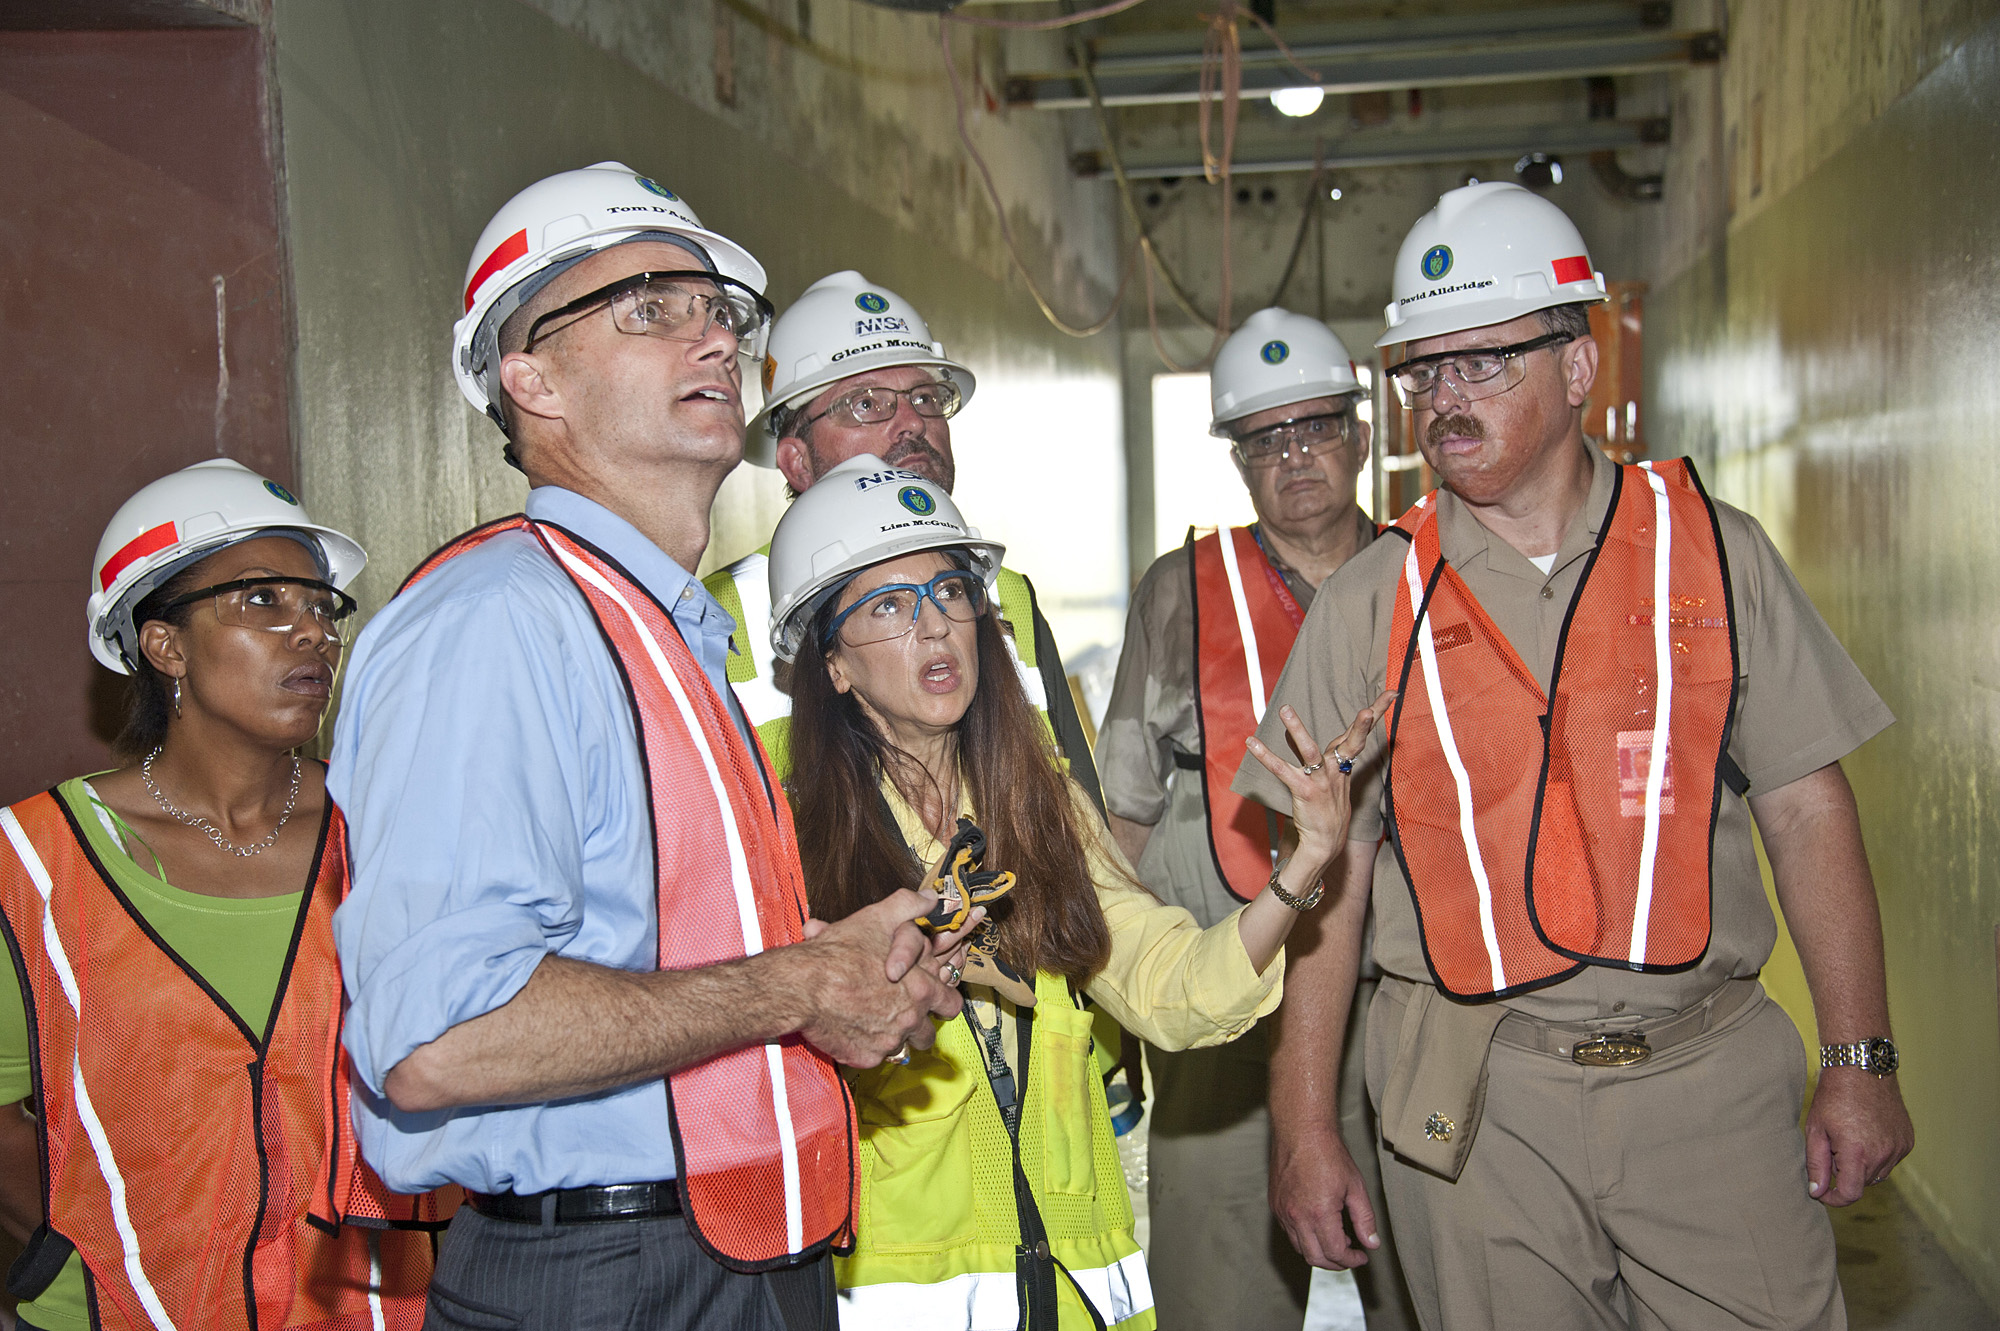helmet: (1388, 187, 1595, 333), (101, 468, 341, 559), (768, 275, 946, 380), (777, 475, 980, 559), (480, 181, 710, 248), (1203, 319, 1351, 417)
